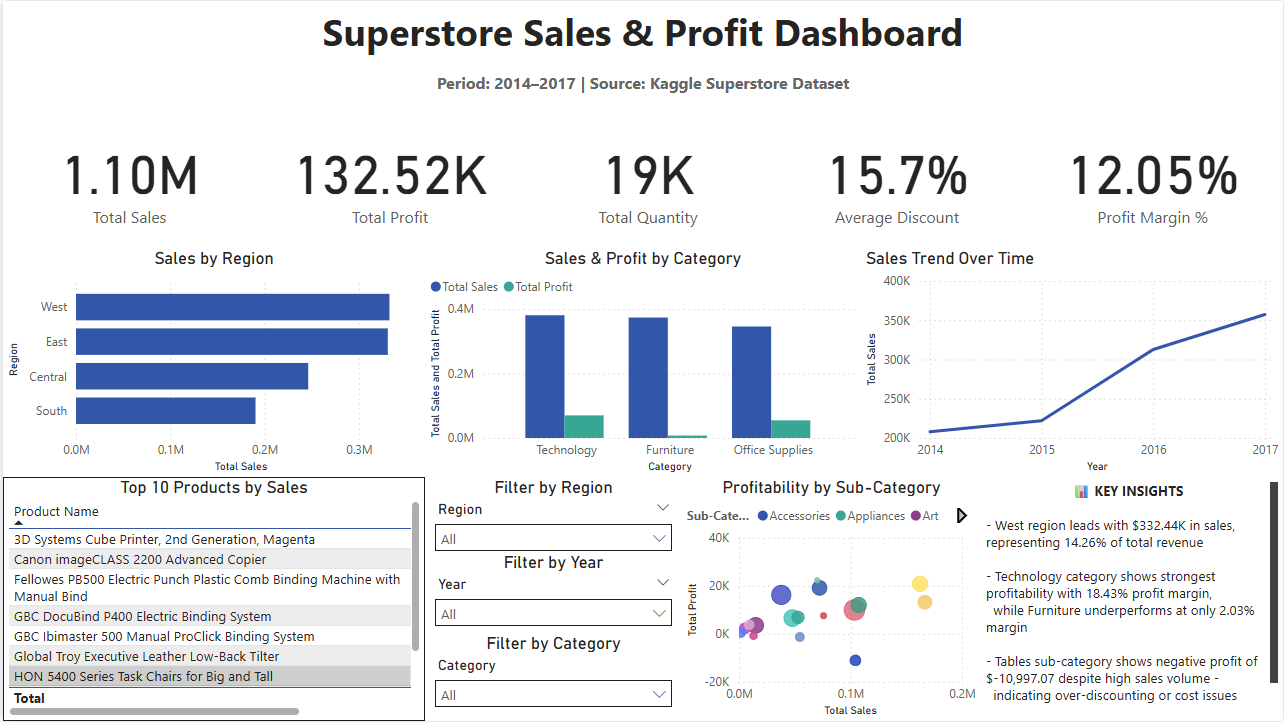

The page's visual inventory and layout, read from the dashboard file:
{"tool":"powerbi","page":{"name":"Page 1","canvas":[1280,720],"ordinal":0},"visuals":[{"type":"card","fields":{"Values":["Sample - Superstore.Total Sales"]},"box":[0,107,253,140],"z":0},{"type":"card","fields":{"Values":["Sample - Superstore.Total Quantity"]},"box":[521,107,248,140],"z":1000},{"type":"card","fields":{"Values":["Sample - Superstore.Average Discount"]},"box":[769,107,250,140],"z":2000},{"type":"clusteredBarChart","title":"Sales by Region","fields":{"Category":["Sample - Superstore.Region"],"Y":["Sample - Superstore.Total Sales"]},"box":[0,247,422,229],"z":3000},{"type":"lineChart","title":"Sales Trend Over Time","fields":{"Category":["Sample - Superstore.Order Date.Variation.Date Hierarchy.Year","Sample - Superstore.Order Date.Variation.Date Hierarchy.Quarter","Sample - Superstore.Order Date.Variation.Date Hierarchy.Month","Sample - Superstore.Order Date.Variation.Date Hierarchy.Day"],"Y":["Sample - Superstore.Total Sales"]},"box":[858,247,422,229],"z":4000},{"type":"card","fields":{"Values":["Sample - Superstore.Total Profit"]},"box":[253,107,268,140],"z":5000},{"type":"clusteredColumnChart","title":"Sales & Profit by Category","fields":{"Category":["Sample - Superstore.Category"],"Y":["Sample - Superstore.Total Sales","Sample - Superstore.Total Profit"]},"box":[422,247,436,229],"z":6000},{"type":"tableEx","title":"Top 10 Products by Sales","fields":{"Values":["Sample - Superstore.Product Name","Sample - Superstore.Total Sales","Sample - Superstore.Total Profit"]},"box":[0,476,422,244],"z":7000},{"type":"slicer","title":"Filter by Region","fields":{"Values":["Sample - Superstore.Region"]},"box":[422,476,257,75],"z":8000},{"type":"slicer","title":"Filter by Year","fields":{"Values":["Sample - Superstore.Year"]},"box":[422,551,257,88],"z":9000},{"type":"slicer","title":"Filter by Category","fields":{"Values":["Sample - Superstore.Category"]},"box":[422,632,257,88],"z":10000},{"type":"card","fields":{"Values":["Sample - Superstore.Profit Margin %"]},"box":[1019,107,261,140],"z":11000},{"type":"textbox","box":[0,0,1280,107],"z":12000},{"type":"scatterChart","title":"Profitability by Sub-Category","fields":{"X":["Sample - Superstore.Total Sales"],"Y":["Sample - Superstore.Total Profit"],"Series":["Sample - Superstore.Sub-Category"],"Size":["Sample - Superstore.Total Quantity"]},"box":[679,476,299,244],"z":13000},{"type":"textbox","box":[978,476,302,244],"z":13001}]}

Visuals, with their boxes in screenshot pixels (x1, y1, x2, y2), scaled from the page's 1280x720 canvas onto the 1284x722 screenshot:
card - Sample - Superstore.Total Sales: <bbox>0, 107, 254, 248</bbox>
card - Sample - Superstore.Total Quantity: <bbox>523, 107, 771, 248</bbox>
card - Sample - Superstore.Average Discount: <bbox>771, 107, 1022, 248</bbox>
"Sales by Region" clusteredBarChart: <bbox>0, 248, 423, 477</bbox>
"Sales Trend Over Time" lineChart: <bbox>861, 248, 1283, 477</bbox>
card - Sample - Superstore.Total Profit: <bbox>254, 107, 523, 248</bbox>
"Sales & Profit by Category" clusteredColumnChart: <bbox>423, 248, 861, 477</bbox>
"Top 10 Products by Sales" tableEx: <bbox>0, 477, 423, 721</bbox>
"Filter by Region" slicer: <bbox>423, 477, 681, 553</bbox>
"Filter by Year" slicer: <bbox>423, 553, 681, 641</bbox>
"Filter by Category" slicer: <bbox>423, 634, 681, 721</bbox>
card - Sample - Superstore.Profit Margin %: <bbox>1022, 107, 1283, 248</bbox>
textbox: <bbox>0, 0, 1283, 107</bbox>
"Profitability by Sub-Category" scatterChart: <bbox>681, 477, 981, 721</bbox>
textbox: <bbox>981, 477, 1283, 721</bbox>
